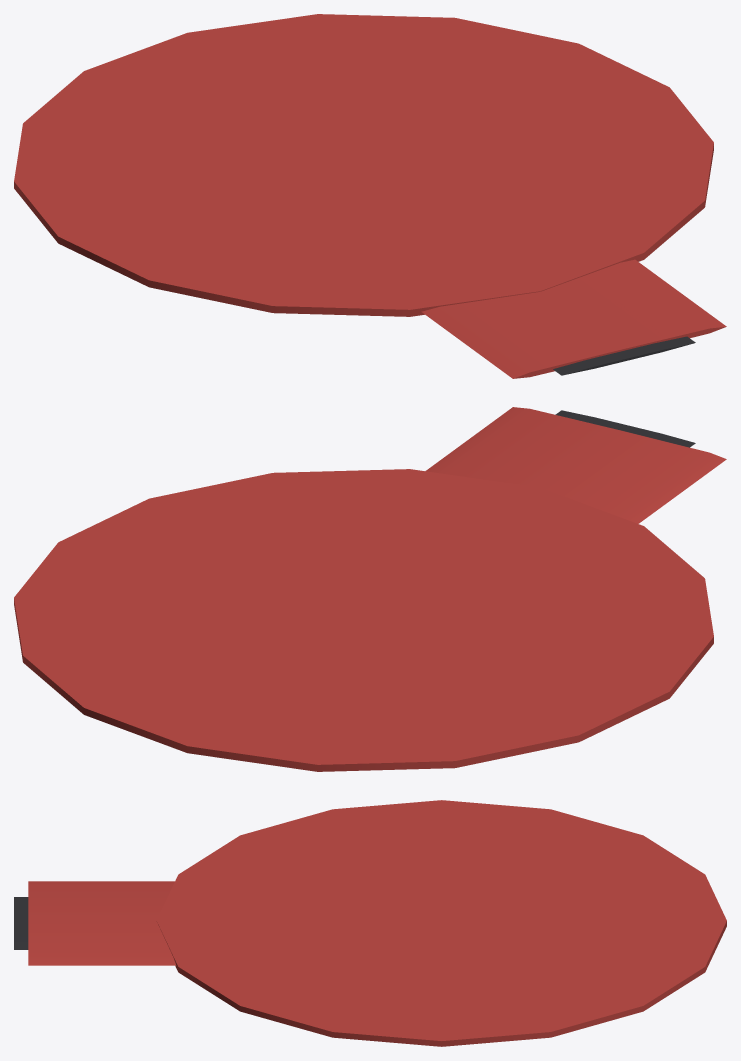
The model's file is clamp.glb.
3 views of the same model, one above another, from view 1: azimuth 30°, elevation 25°; view 2: azimuth 150°, elevation 25°; view 3: azimuth 270°, elevation 25° (orthographic). The views are drawn at different scales.
Visible parts, largest first — view 1: lod0; view 2: lod0; view 3: lod0.
Part boxes in pixels (x1=…): lod0: x1=14, y1=14, x2=726, y2=378; lod0: x1=14, y1=407, x2=726, y2=771; lod0: x1=14, y1=800, x2=726, y2=1046.
Size of what is drawn, in the model's own units: 2 by 0.022 by 2.5.
